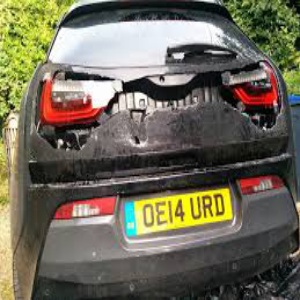bonnet: (33, 57, 280, 167)
